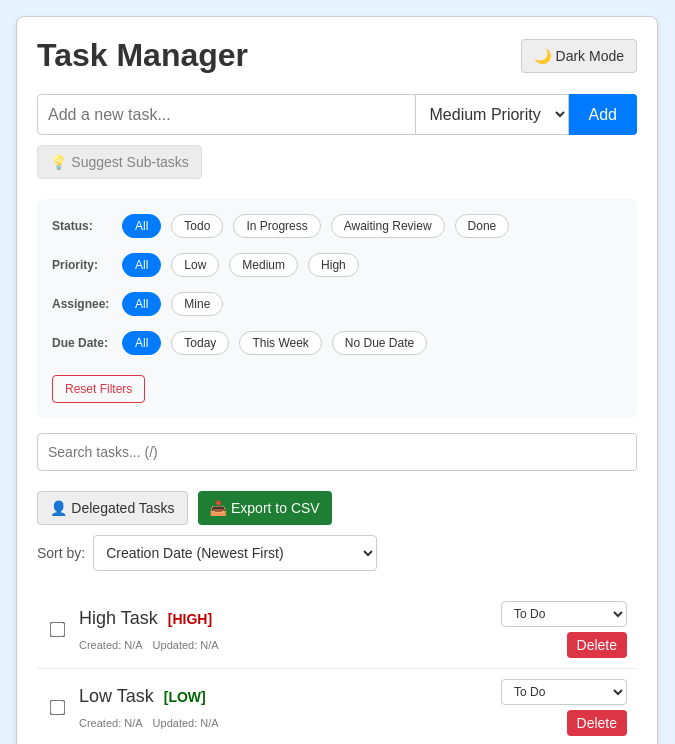
Test case: App Component Priority Integration › filters tasks by priority
Expected: the text "High Task" is shown, [79,608,158,628]
Expected: the text "Low Task" is shown, [79,686,154,706]
# Filter by High Priority
Click the button "High" at (333, 265), box [308,253,359,277]
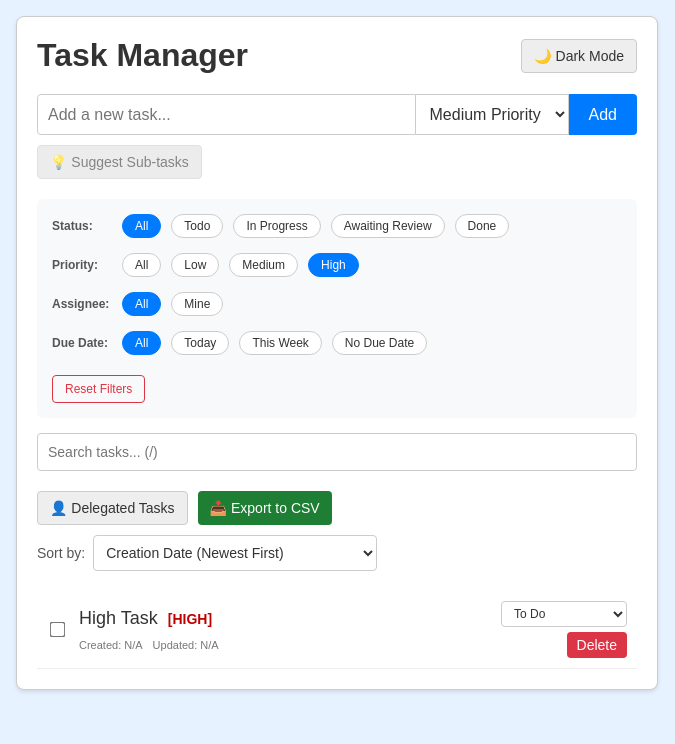
Expected: the text "High Task" is shown, [79,608,158,628]
Result: the text "Low Task" is gone
# Filter by Low Priority
Click the button "Low" at (195, 265), box [171,253,219,277]
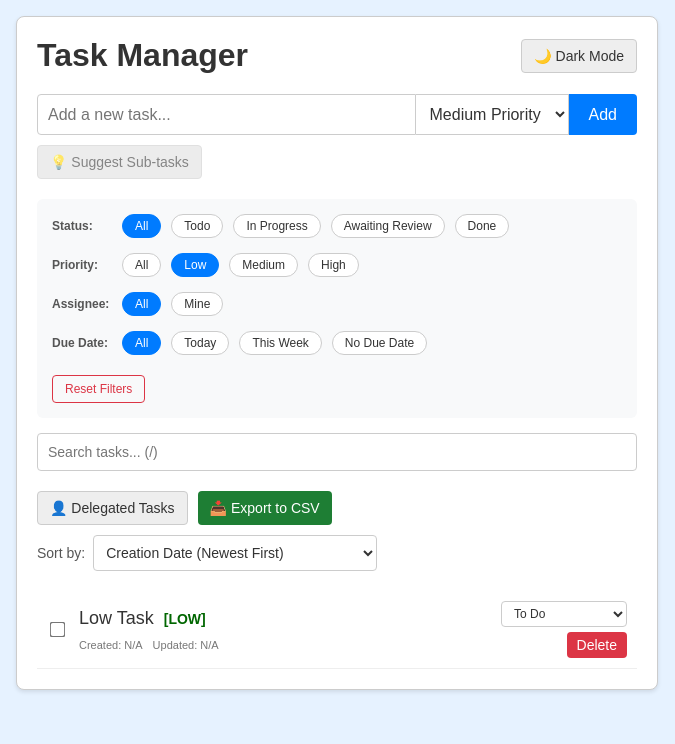
Result: the text "High Task" is gone
Result: the text "Low Task" is shown at [79,608,154,628]
